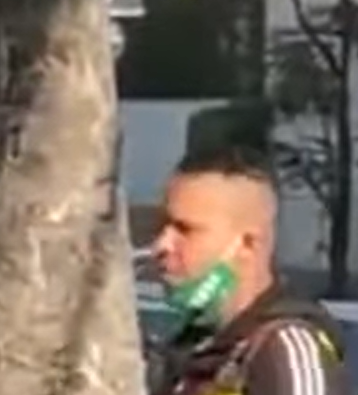mask_weared_incorrect: (145, 155, 293, 324)
